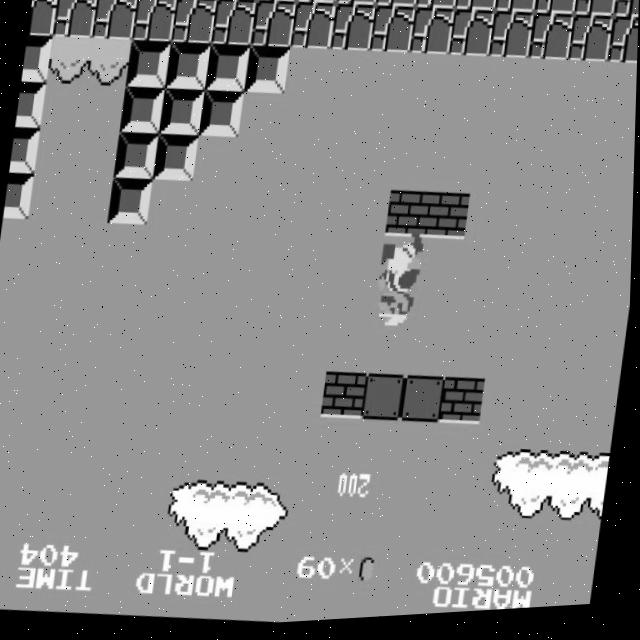1- brick_block: (425, 195, 472, 247), (385, 193, 432, 245), (441, 380, 488, 431), (322, 373, 368, 425)
17- undestructible_block: (289, 3, 337, 55), (567, 19, 614, 71), (527, 17, 574, 69), (488, 15, 535, 67), (448, 12, 495, 64), (408, 10, 455, 62), (369, 7, 416, 59), (329, 5, 376, 57), (250, 0, 297, 52), (210, 0, 257, 50), (170, 0, 217, 48), (131, 0, 178, 45), (91, 0, 138, 43), (51, 0, 98, 41), (607, 22, 639, 74), (27, 0, 59, 38), (573, 0, 617, 26), (533, 0, 577, 23), (494, 0, 538, 21), (454, 0, 498, 19), (613, 0, 639, 27), (415, 0, 458, 16), (375, 0, 418, 14), (335, 0, 378, 11), (295, 0, 339, 9), (256, 0, 299, 7), (216, 0, 259, 4), (176, 0, 219, 2)
3- empty_block: (402, 378, 448, 429), (362, 376, 408, 427)
4- fire_mario: (373, 235, 429, 336)
9- hard_block: (198, 89, 246, 142), (244, 46, 291, 99), (125, 39, 172, 92), (204, 44, 251, 96), (159, 87, 206, 139), (164, 42, 211, 94), (107, 176, 154, 228), (119, 85, 166, 137), (114, 131, 160, 183), (153, 134, 199, 185), (9, 126, 42, 175), (21, 34, 53, 84), (15, 81, 48, 129), (3, 172, 35, 221)
